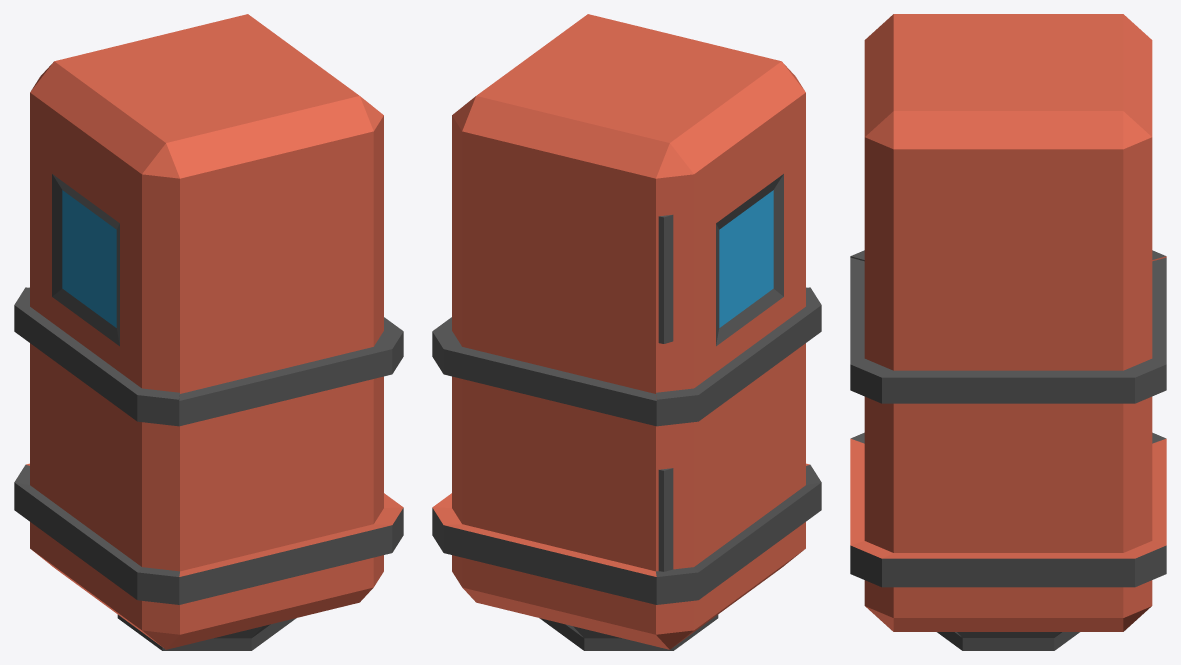
The model's file is Robot_Pod.fbx.
3 views of the same model, side by side, from view 1: azimuth 30°, elevation 25°; view 2: azimuth 150°, elevation 25°; view 3: azimuth 270°, elevation 25° (orthographic). The views are drawn at different scales.
Parts seen in each view (by area): view 1: Body, Door, Cylinder; view 2: Body, Door, Hinges, Cylinder; view 3: Body, Cylinder.
Boxes of the visible parts, x1,y1,x2,y2 form: Body: (26, 14, 403, 649); Door: (14, 61, 179, 649); Cylinder: (117, 615, 296, 650); Body: (432, 14, 809, 649); Door: (656, 61, 821, 649); Hinges: (658, 214, 673, 571); Cylinder: (539, 615, 718, 650); Body: (850, 14, 1166, 631); Cylinder: (937, 632, 1079, 650).
Size of the model in its own units: 220 by 426 by 220.
